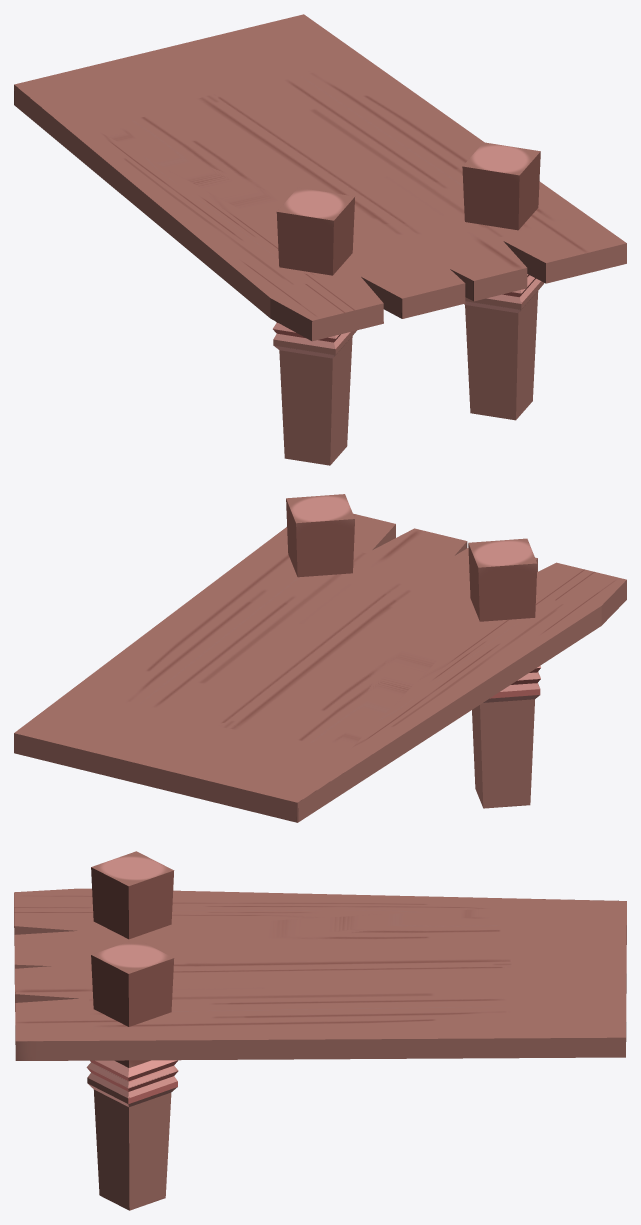
File: Pier.fbx
3 views of the same model, one above another, from view 1: azimuth 30°, elevation 25°; view 2: azimuth 150°, elevation 25°; view 3: azimuth 270°, elevation 25° (orthographic). The views are drawn at different scales.
Visible parts, largest first — view 1: Surface, Support, Support.001; view 2: Surface, Support, Support.001; view 3: Surface, Support.001, Support.
Boxes of the visible parts, x1,y1,x2,y2 form: Surface: (14, 14, 626, 341); Support: (273, 187, 356, 465); Support.001: (462, 142, 544, 420); Surface: (14, 513, 626, 822); Support: (468, 538, 540, 808); Support.001: (286, 494, 354, 577); Surface: (14, 888, 626, 1060); Support.001: (86, 939, 178, 1210); Support: (91, 851, 174, 939).
Size of the model in its own units: 334 by 245 by 565.
2 materials, 2 textured.
